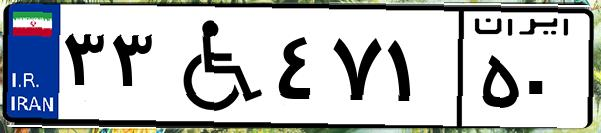0: (525, 38, 570, 115)
1: (385, 28, 445, 110)
3: (57, 26, 110, 100), (110, 28, 158, 98)
4: (270, 28, 330, 110)
5: (475, 38, 525, 113)
7: (330, 28, 385, 110)
ژ (معلولین و جانبازان): (158, 12, 270, 120)
